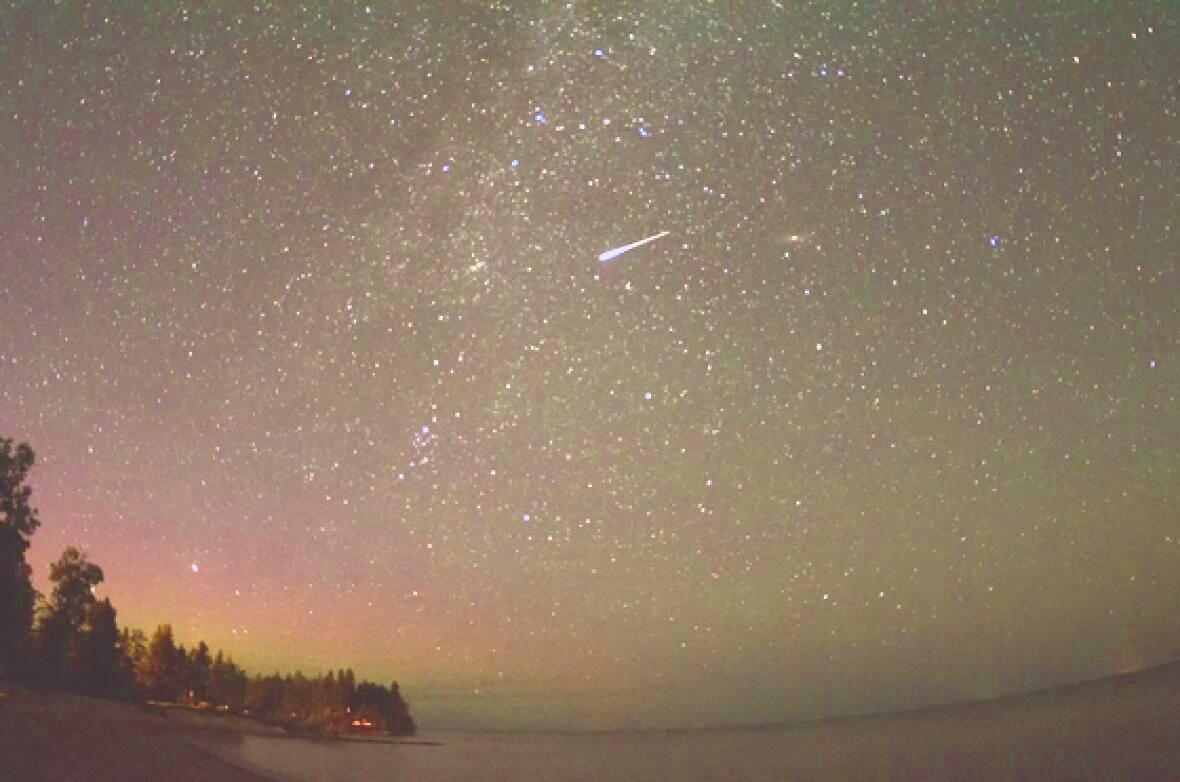meteorite: (549, 221, 716, 267)
